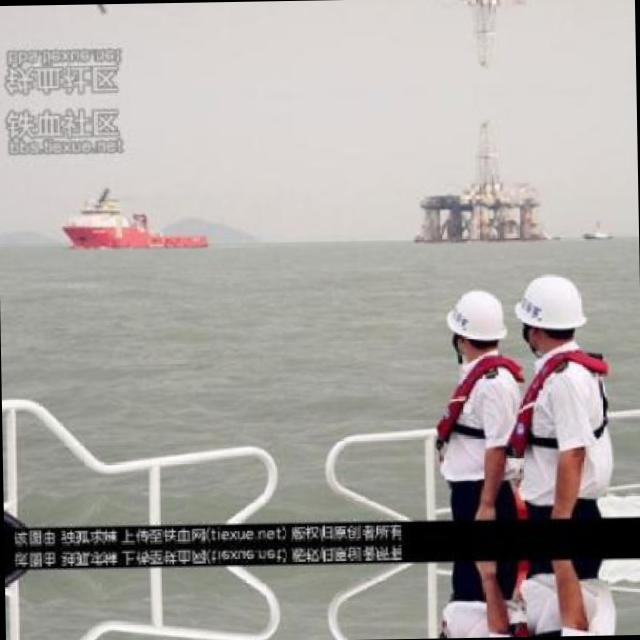helmet: (509, 266, 588, 356), (441, 284, 510, 362)
